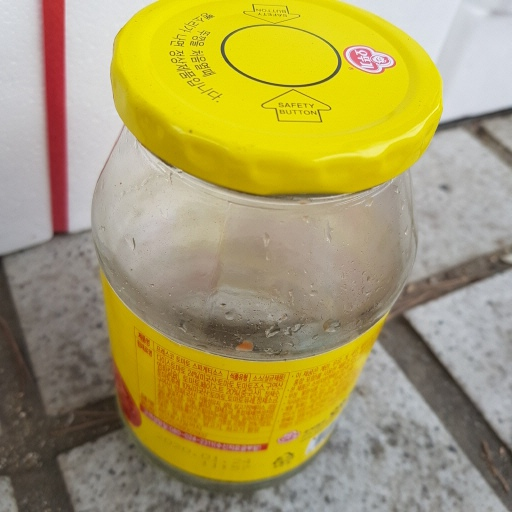Glass_5: (87, 1, 441, 489)
